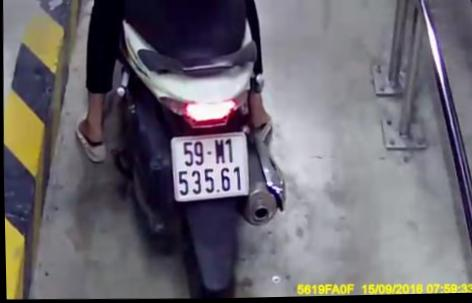LP: (169, 131, 249, 205)
